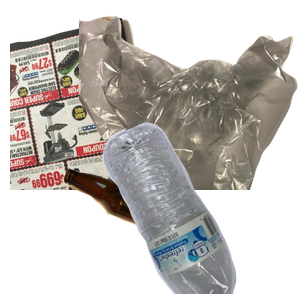glass: (60, 166, 241, 300)
paper: (10, 15, 250, 195)
plastic: (100, 120, 300, 300)
trash: (79, 14, 300, 194)
